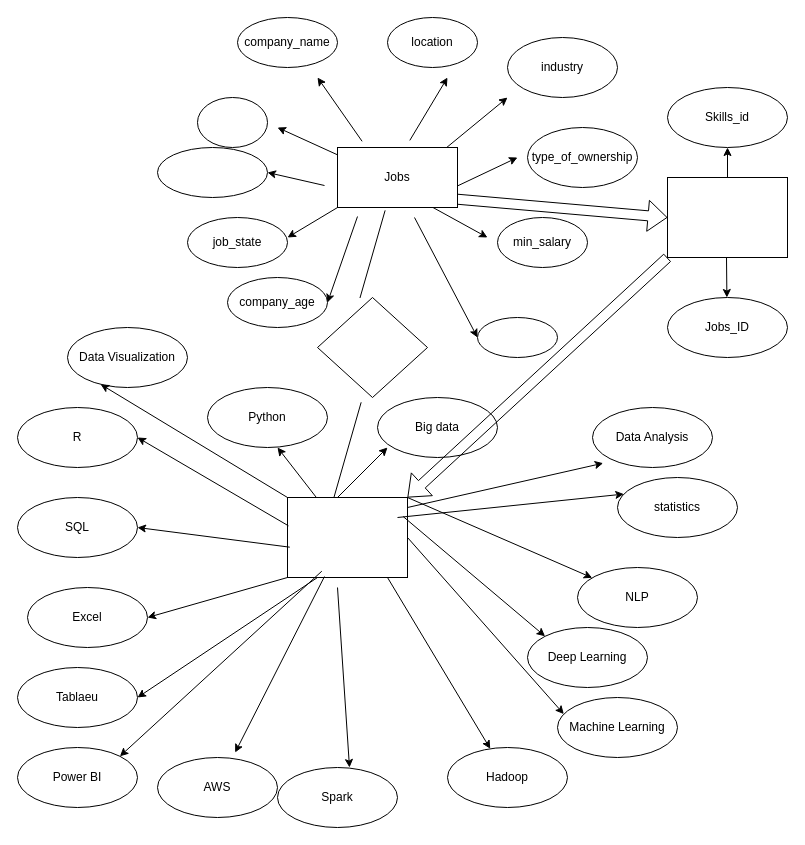
This 805x845 diagram has some shape labels left out. The shapes that lost their labels are listed below. From the top down, each one's centre as x and y in pixels, then its label:
the point at 232,122: sector
the point at 212,172: max_salary
the point at 727,217: Job skills
the point at 372,347: One Job can have multiple skills.
the point at 517,337: avg_salary
the point at 347,537: Skills
